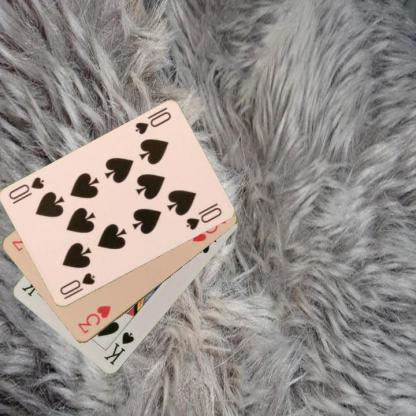10s: (132, 110, 173, 136), (57, 270, 96, 297)
3h: (75, 302, 112, 336)
Ks: (101, 329, 136, 367)
